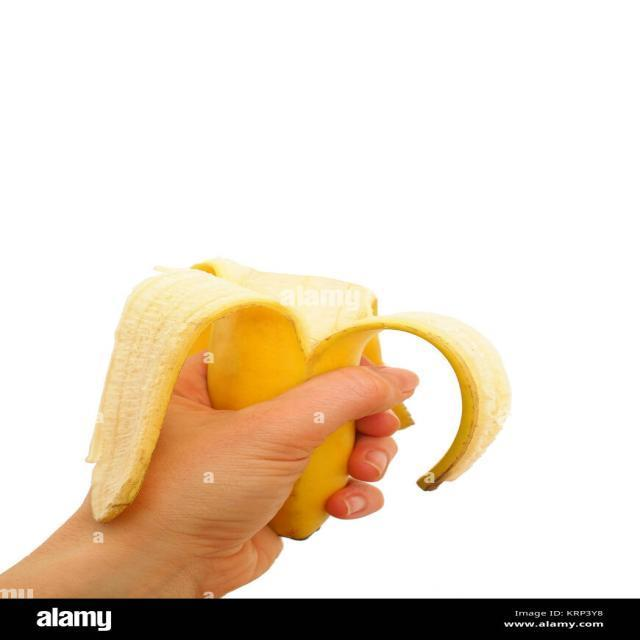banana-peel: (85, 255, 511, 540)
